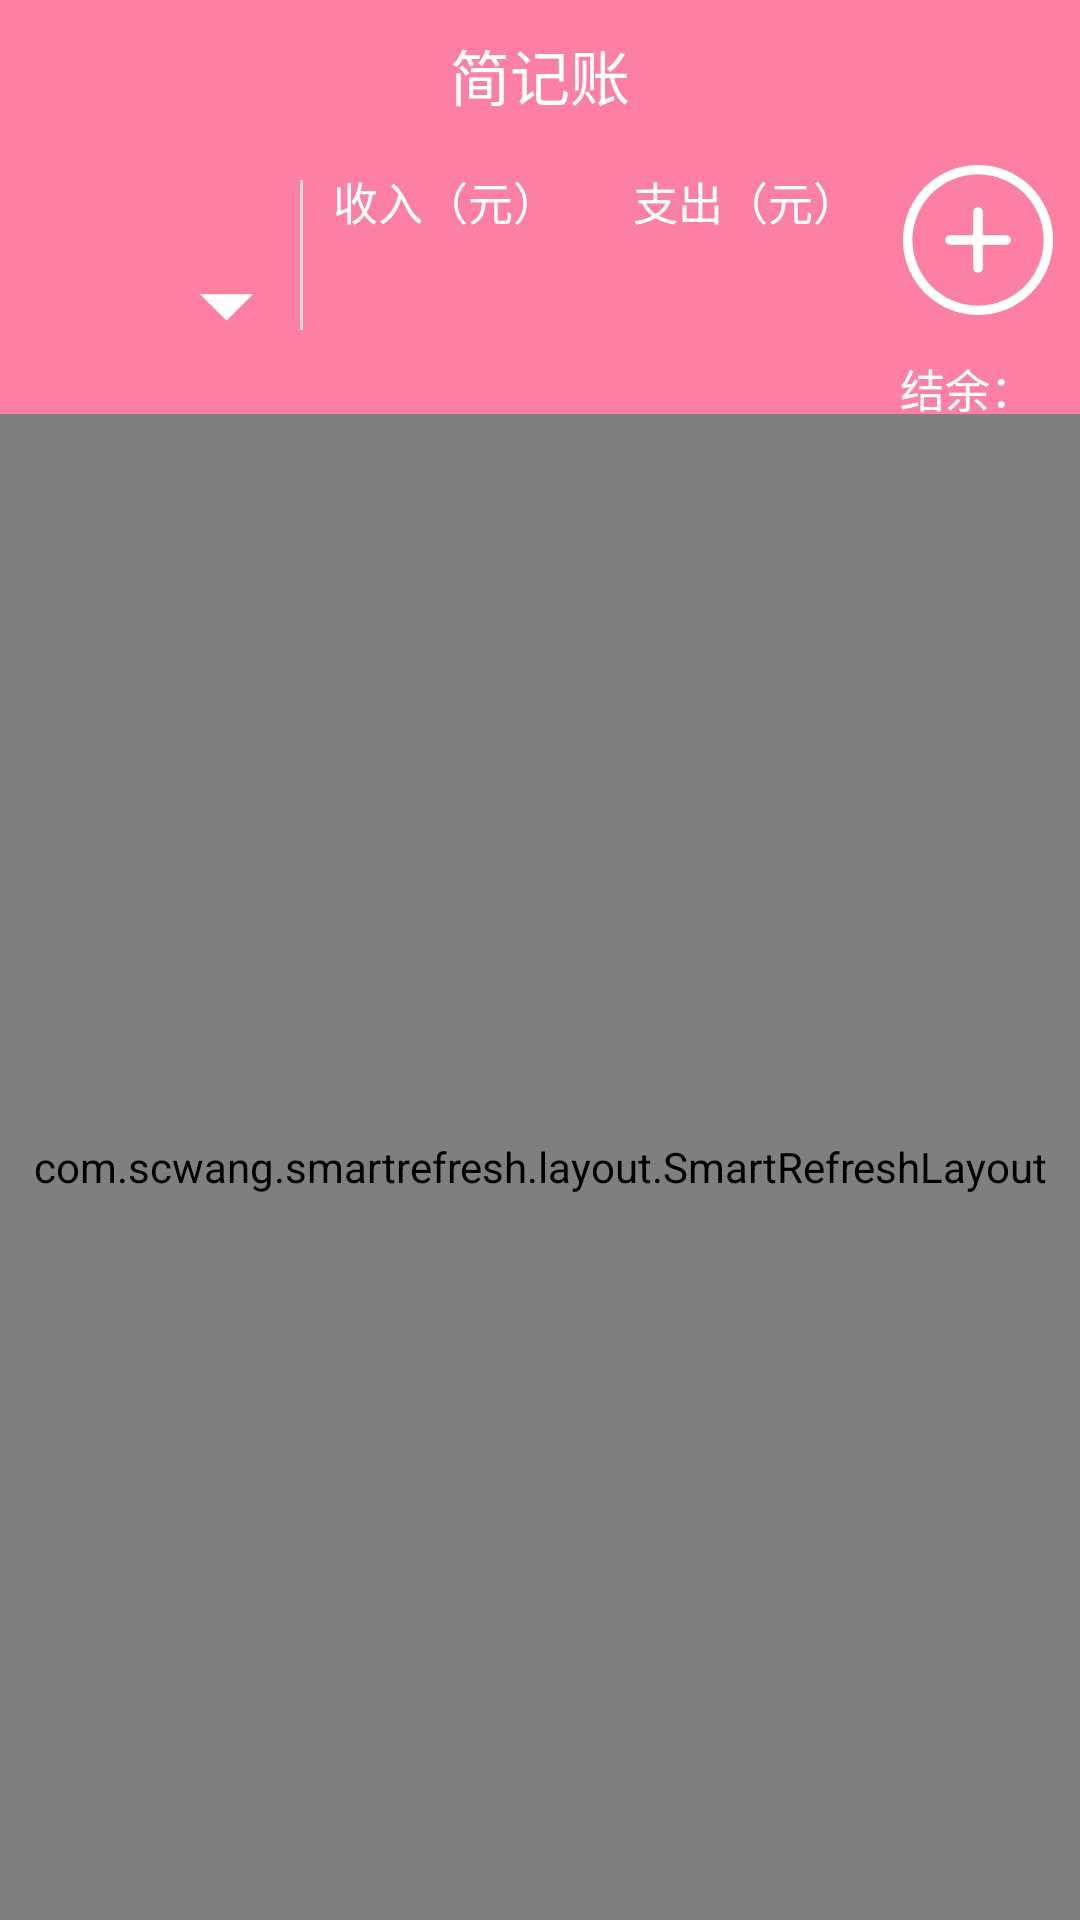

Where icons sit on this 1080w x 1920h app screen, as [left=x1, top=y1, right=x2, bottom=y2]:
add: [left=903, top=165, right=1053, bottom=315]
timeselect: [left=200, top=294, right=253, bottom=321]
